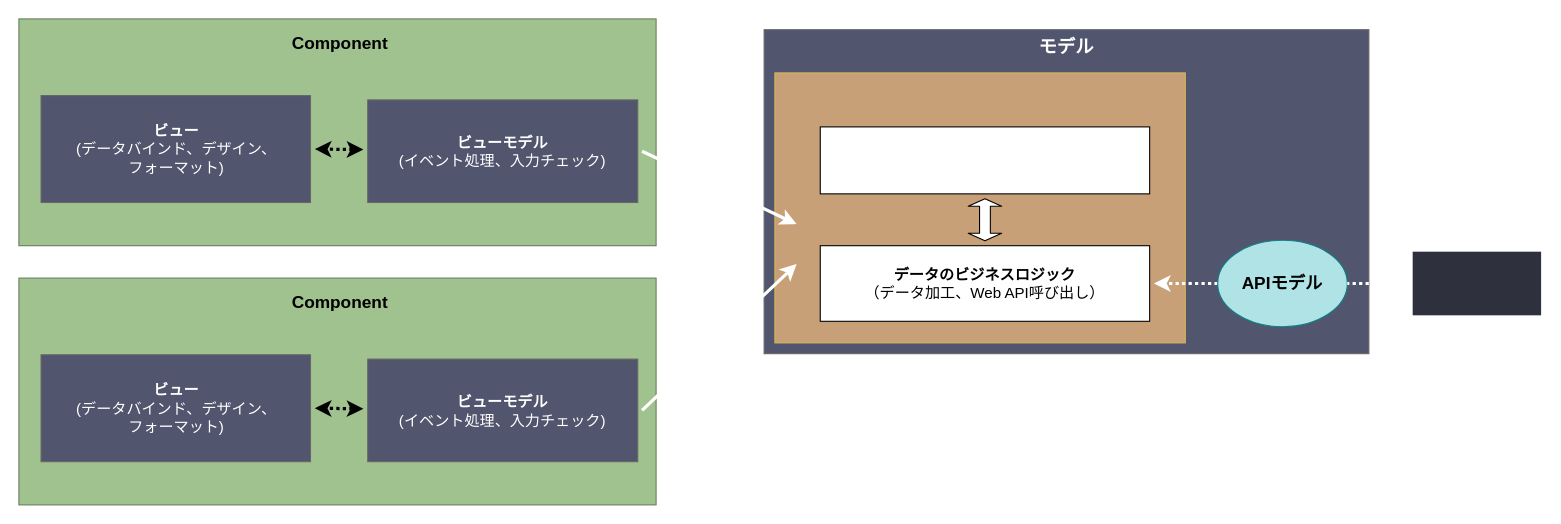
Image size: 1561x524. Some labels were removed from this diagram. Here are the shapes that lost their labels. From the top down, the box of each, then its label:
(819, 126, 1150, 194): アプリケーションの状態・データ
(774, 72, 1185, 343): Store
(1411, 250, 1542, 316): API
